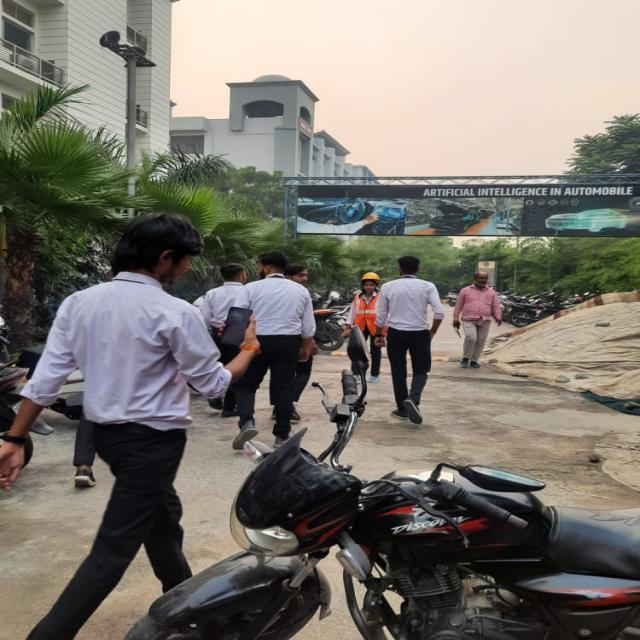safe: (345, 271, 388, 382)
unsafe: (0, 212, 256, 469), (233, 247, 316, 456), (378, 254, 432, 425), (450, 270, 504, 371), (198, 263, 249, 337)
